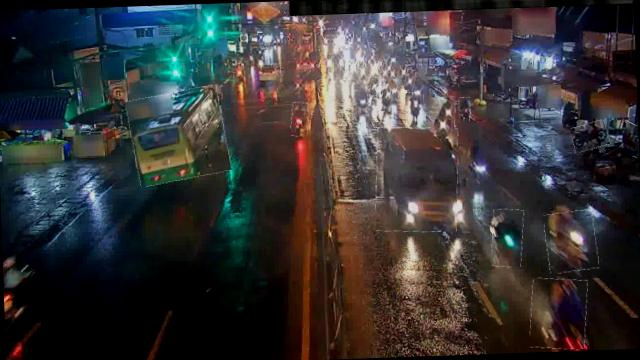Bike: (530, 277, 588, 350), (544, 210, 598, 273), (491, 208, 524, 267), (570, 121, 608, 152), (405, 92, 426, 126), (290, 102, 310, 137), (440, 97, 456, 130), (432, 114, 452, 139), (354, 83, 368, 116), (380, 84, 394, 112), (457, 98, 470, 122), (232, 64, 245, 86), (404, 70, 416, 92), (388, 79, 399, 100), (370, 76, 380, 96)
Bus: (128, 88, 229, 184), (374, 126, 461, 234)
Car: (258, 64, 281, 83)
